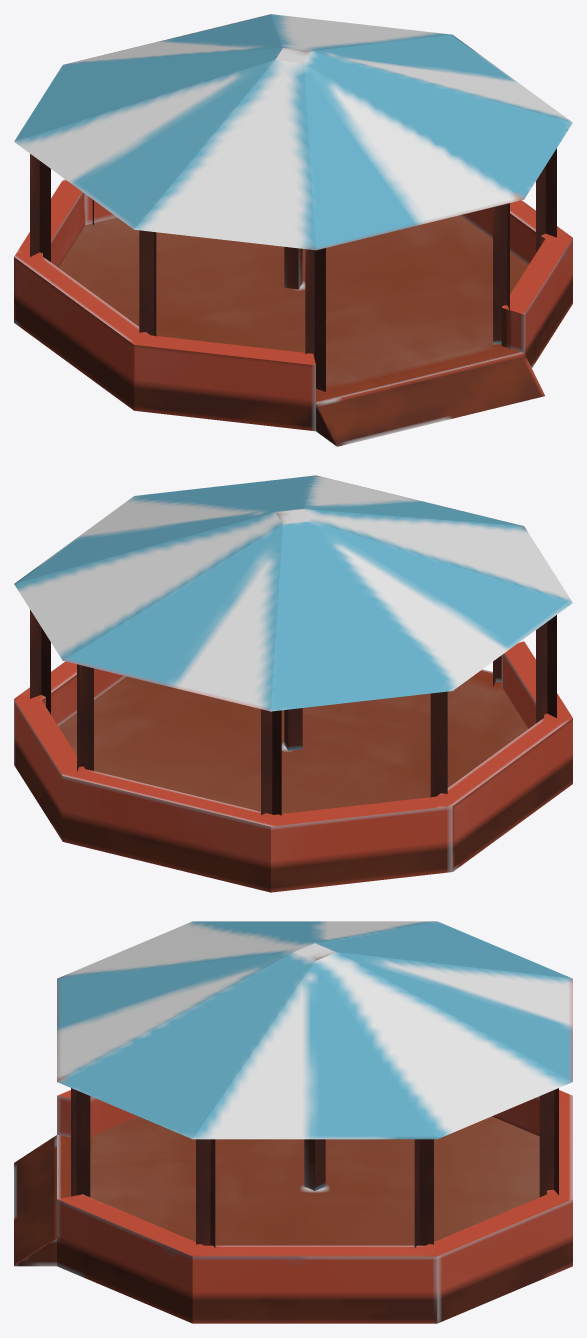
File: m_kiosque.fbx
3 views of the same model, one above another, from view 1: azimuth 30°, elevation 25°; view 2: azimuth 150°, elevation 25°; view 3: azimuth 270°, elevation 25° (orthographic).
Visible parts, largest first — view 1: Circle; view 2: Circle; view 3: Circle.
Part boxes in pixels (left/top/right/bottom): Circle: left=14, top=14, right=572, bottom=446; Circle: left=14, top=475, right=572, bottom=892; Circle: left=14, top=921, right=572, bottom=1323.
Bounding box in the file's own units: 1197 × 672 × 1297.
1 material, 1 textured.
